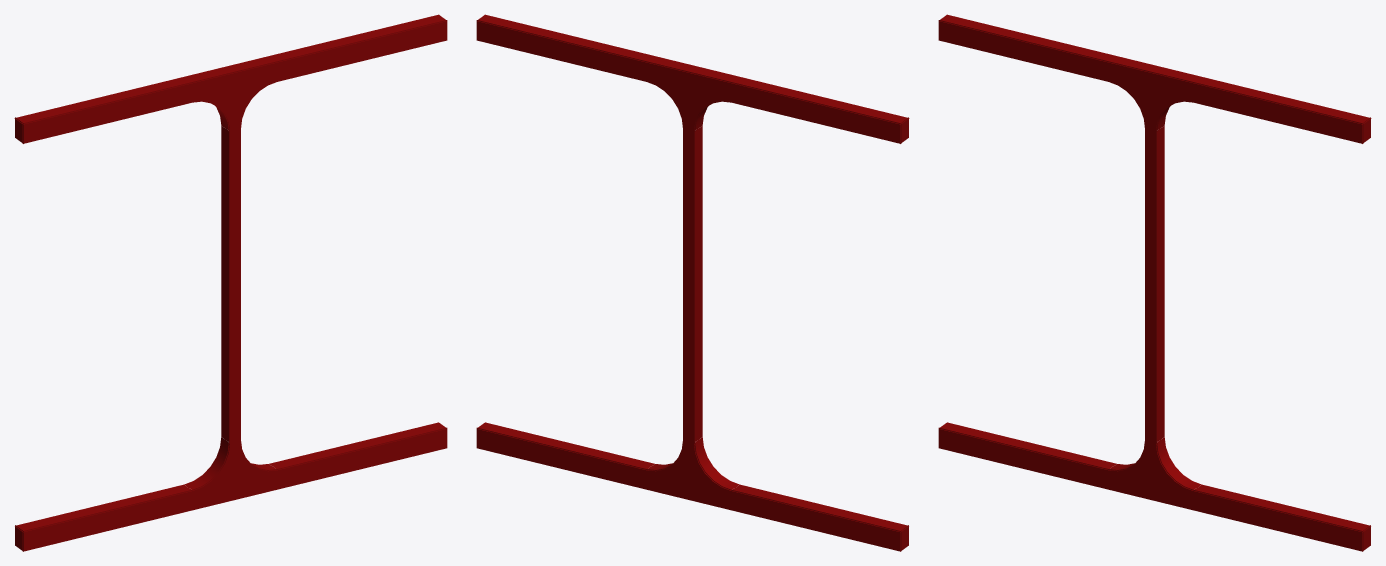
File: HEA280.glb
The picture shows the model from 3 angles, left to right: view 1: azimuth 30°, elevation 25°; view 2: azimuth 150°, elevation 25°; view 3: azimuth 330°, elevation 25°; orthographic projection.
Size of the model in its own units: 28 by 27 by 1.
